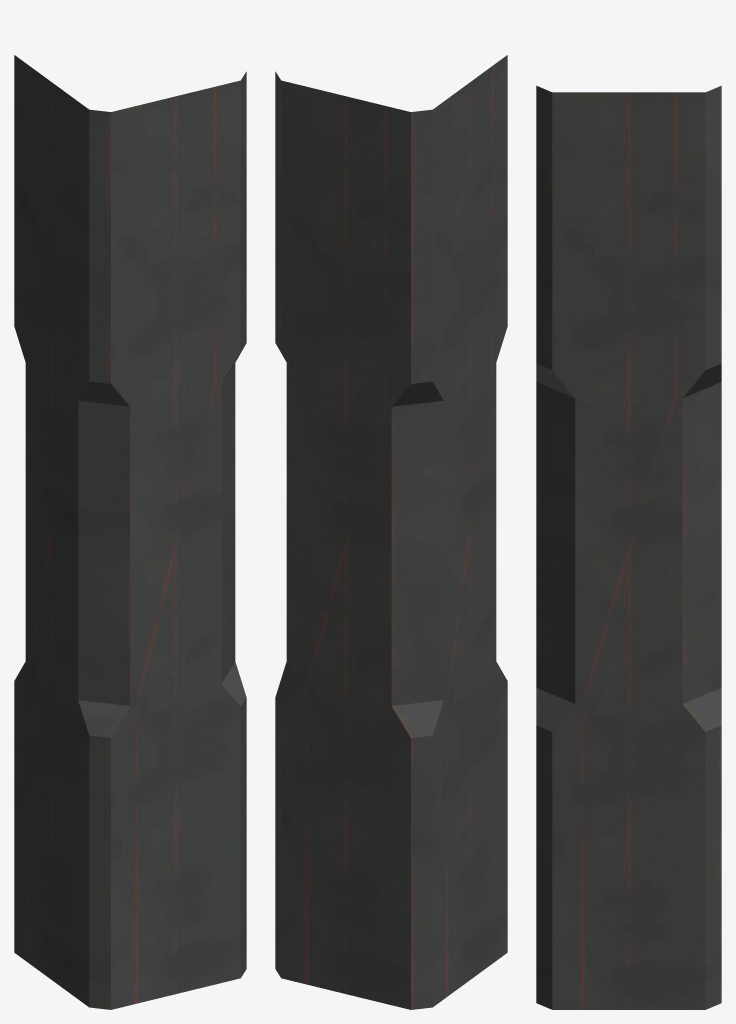
The model's file is Post_Thin.glb.
The picture shows the model from 3 angles, left to right: view 1: azimuth 30°, elevation 25°; view 2: azimuth 150°, elevation 25°; view 3: azimuth 270°, elevation 25°; orthographic projection. The views are drawn at different scales.
Visible parts, largest first — view 1: Post_Thin; view 2: Post_Thin; view 3: Post_Thin.
Part boxes in pixels (x1=…): Post_Thin: x1=14, y1=55, x2=246, y2=1009; Post_Thin: x1=275, y1=55, x2=507, y2=1009; Post_Thin: x1=536, y1=85, x2=721, y2=1009.
Size of the model in its own units: 1.1 by 6 by 1.1.
1 material, 1 textured.
